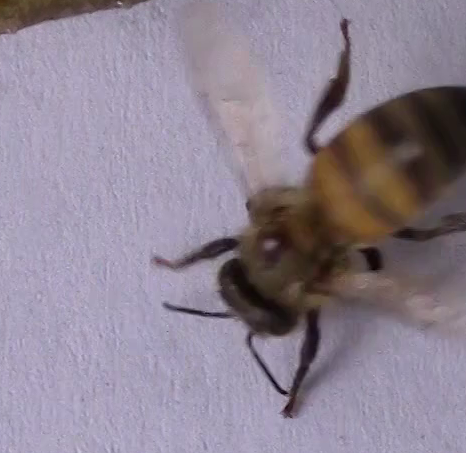Varroa destructor: (252, 227, 297, 266)
